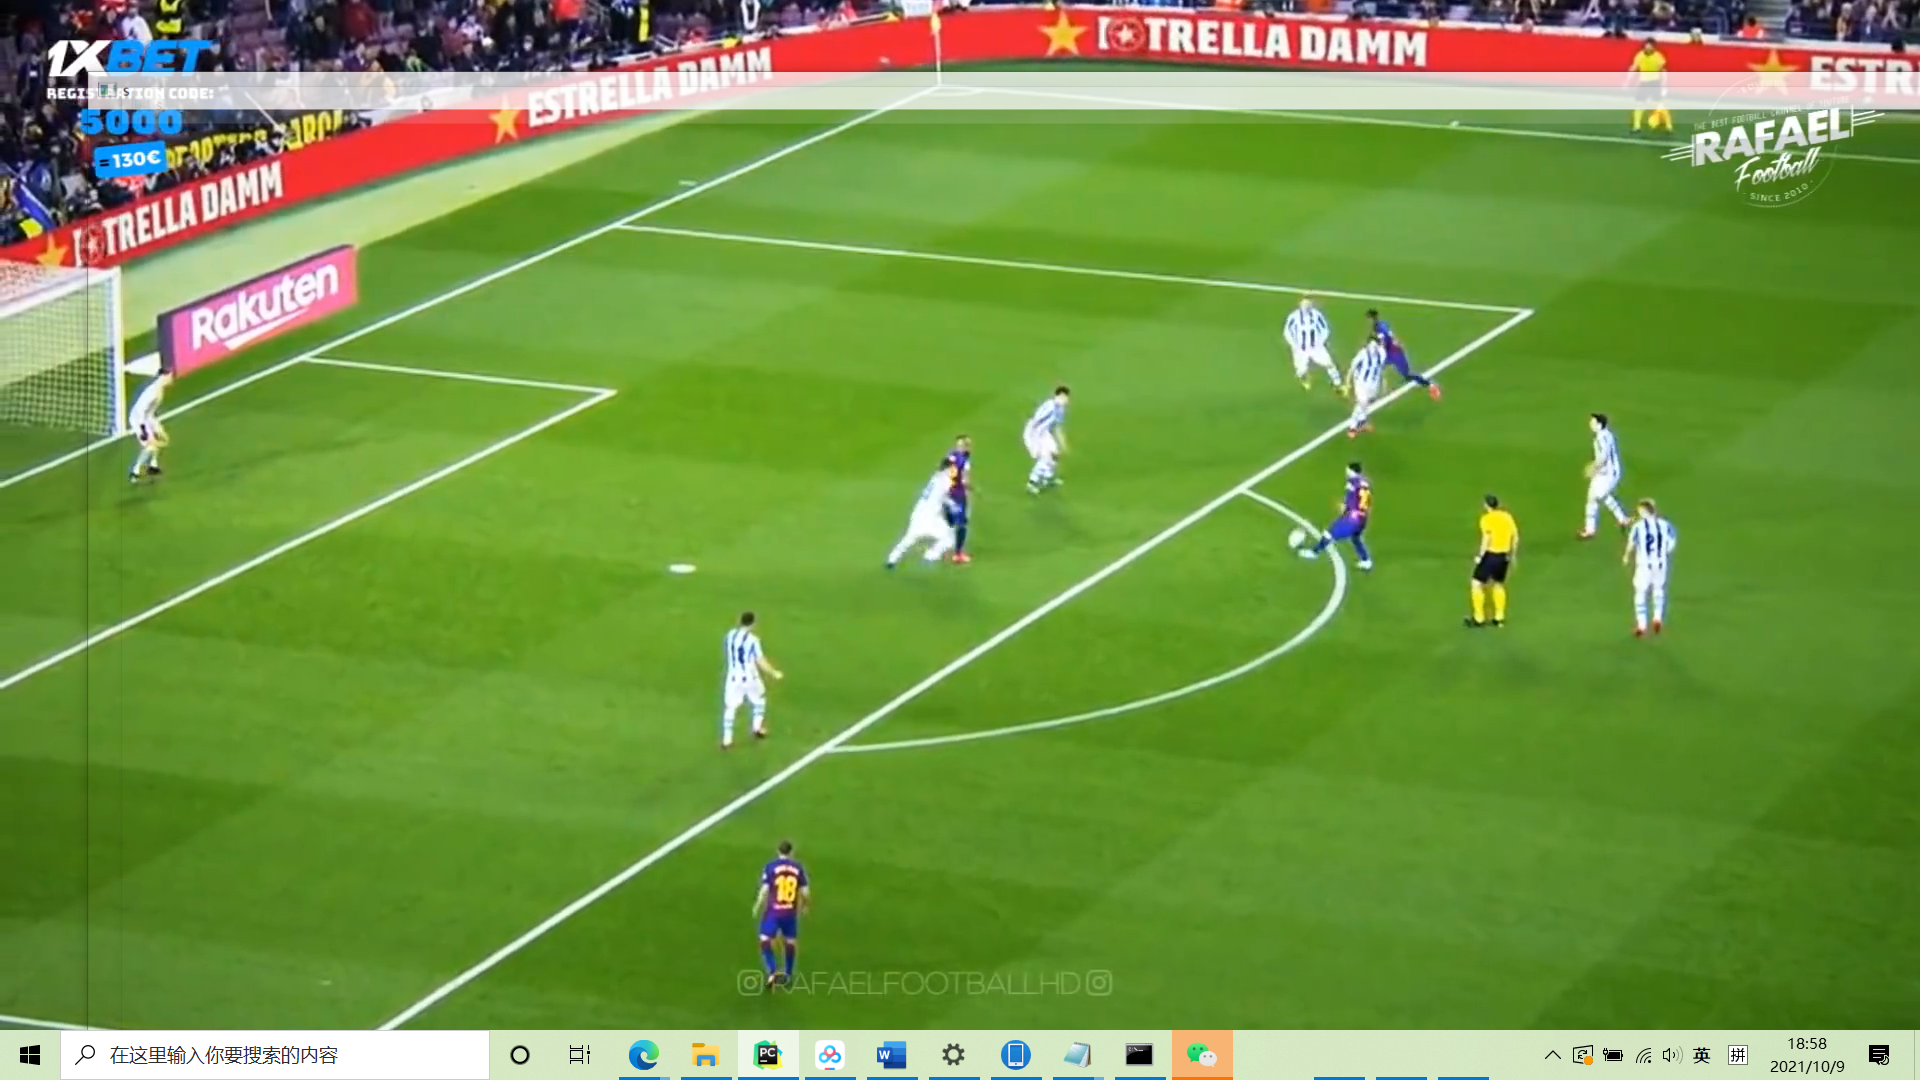ft: (1287, 526, 1311, 549)
